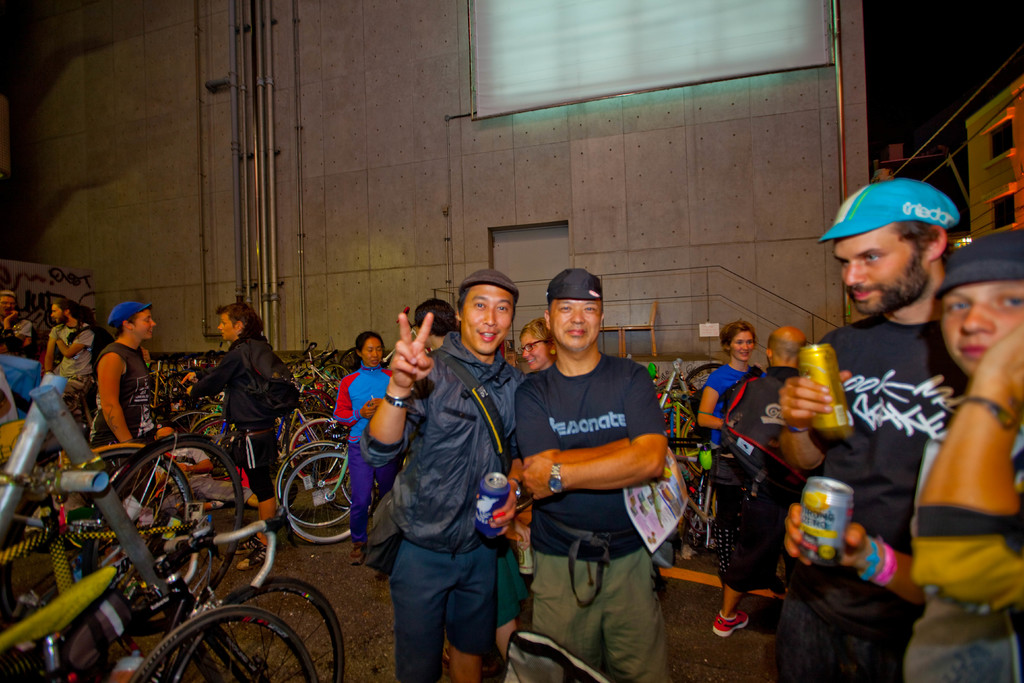Footwear: (236, 539, 273, 573), (712, 607, 748, 636), (228, 531, 264, 556), (348, 537, 366, 567)
